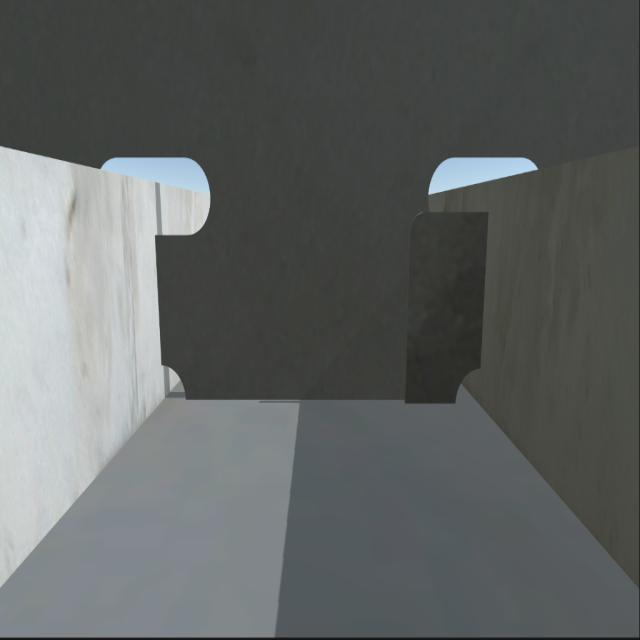fillet_hole: (160, 359, 194, 403), (453, 368, 482, 407)
fillet_yong_jeop_jang: (182, 399, 458, 409)
longi_yong_jeop_jang: (472, 213, 495, 373), (150, 234, 168, 368)
plate_CP05: (403, 207, 492, 402)
